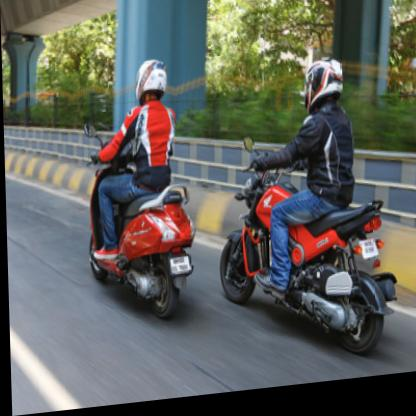With Helmet: (302, 60, 346, 128), (130, 55, 170, 109)
